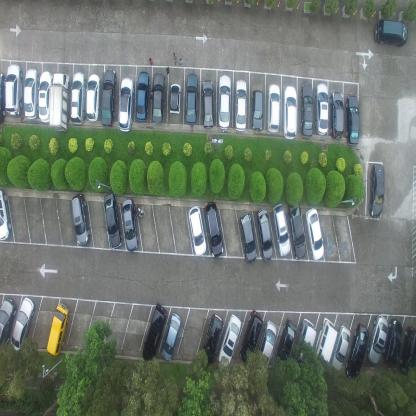car: (142, 302, 169, 366), (9, 296, 35, 353), (312, 316, 337, 374), (345, 322, 369, 382), (199, 312, 224, 368), (239, 310, 263, 366), (218, 312, 242, 366), (46, 301, 70, 355), (293, 318, 316, 374), (49, 70, 69, 132), (255, 319, 277, 374), (274, 319, 297, 371), (204, 200, 224, 258), (366, 313, 388, 365), (103, 191, 122, 250), (287, 198, 305, 258), (161, 311, 182, 362), (373, 18, 408, 48), (329, 325, 351, 372), (271, 202, 290, 256), (382, 318, 403, 366), (304, 205, 322, 260), (5, 63, 23, 118), (188, 204, 207, 256), (256, 207, 274, 261), (238, 211, 257, 262), (100, 66, 116, 126), (70, 192, 88, 245), (118, 74, 134, 132), (369, 162, 385, 219), (122, 198, 138, 252), (70, 69, 85, 126), (282, 84, 297, 141), (0, 298, 17, 348), (23, 67, 39, 119), (399, 326, 415, 377), (299, 82, 313, 140), (314, 82, 329, 136), (217, 74, 231, 131), (38, 70, 53, 123), (85, 71, 100, 121), (329, 91, 344, 141), (345, 95, 359, 147), (135, 70, 149, 121), (152, 70, 165, 124), (234, 78, 247, 131), (201, 79, 214, 129), (267, 84, 280, 133), (186, 73, 198, 125), (0, 189, 12, 241), (250, 88, 264, 132), (169, 82, 181, 116), (0, 70, 6, 126)
